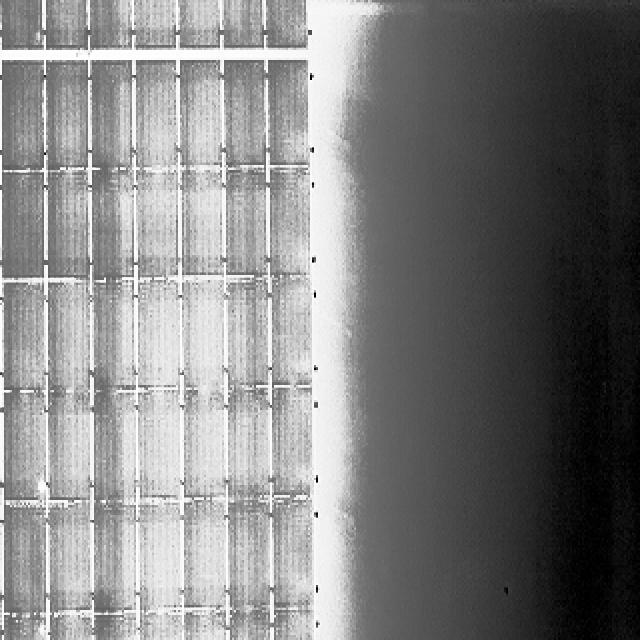Hotspots: (123, 395, 139, 421), (34, 478, 49, 496), (0, 290, 2, 308), (0, 510, 2, 528), (0, 258, 2, 272)
PV-modules: (178, 54, 230, 168), (217, 54, 265, 168), (223, 495, 270, 610), (182, 280, 229, 394), (3, 397, 50, 511), (222, 279, 269, 392), (1, 172, 48, 285), (128, 54, 174, 169), (46, 392, 94, 502), (87, 168, 134, 280), (88, 282, 135, 394), (4, 284, 51, 396), (0, 505, 47, 617), (269, 387, 315, 501), (3, 55, 49, 169), (136, 503, 183, 614), (47, 282, 93, 395), (45, 60, 91, 172), (220, 168, 266, 280), (229, 387, 275, 499), (47, 504, 93, 616), (134, 389, 179, 502), (90, 390, 135, 503), (270, 498, 315, 611), (46, 170, 92, 280), (135, 281, 181, 391), (180, 170, 226, 280), (185, 496, 229, 610), (88, 55, 132, 169), (268, 167, 313, 278), (94, 506, 139, 617), (183, 388, 228, 498), (134, 169, 179, 279), (267, 56, 311, 168), (270, 279, 313, 388), (136, 612, 230, 640), (42, 0, 88, 52), (220, 0, 266, 52), (256, 0, 304, 48), (84, 0, 130, 50), (130, 0, 176, 48), (176, 0, 220, 48), (0, 0, 42, 48), (270, 611, 318, 640), (184, 611, 228, 640), (134, 614, 184, 639), (90, 615, 141, 639), (228, 614, 276, 639), (46, 616, 96, 639), (0, 618, 46, 638), (0, 505, 2, 617), (0, 282, 2, 392), (0, 618, 4, 638)
